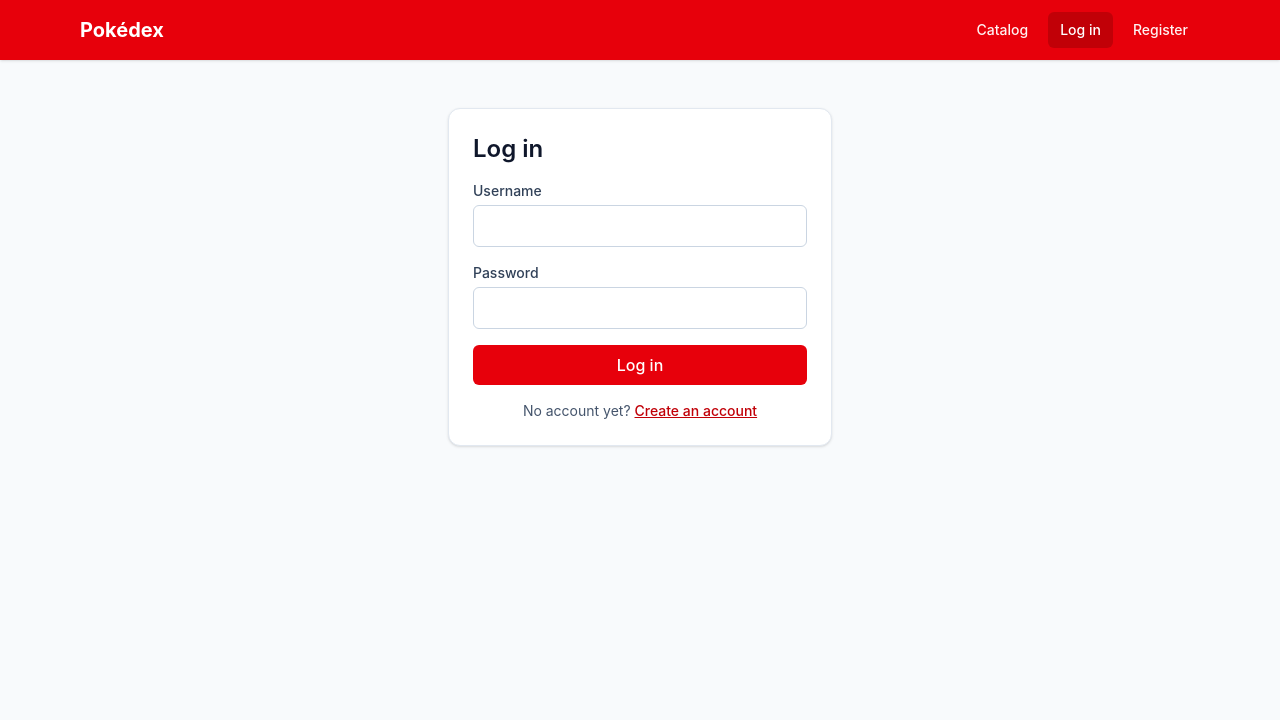
LoginPage › shows a validation message for each empty field
Click the button "Log in". click: coordinates (640, 365)
box: [473,345,807,385]
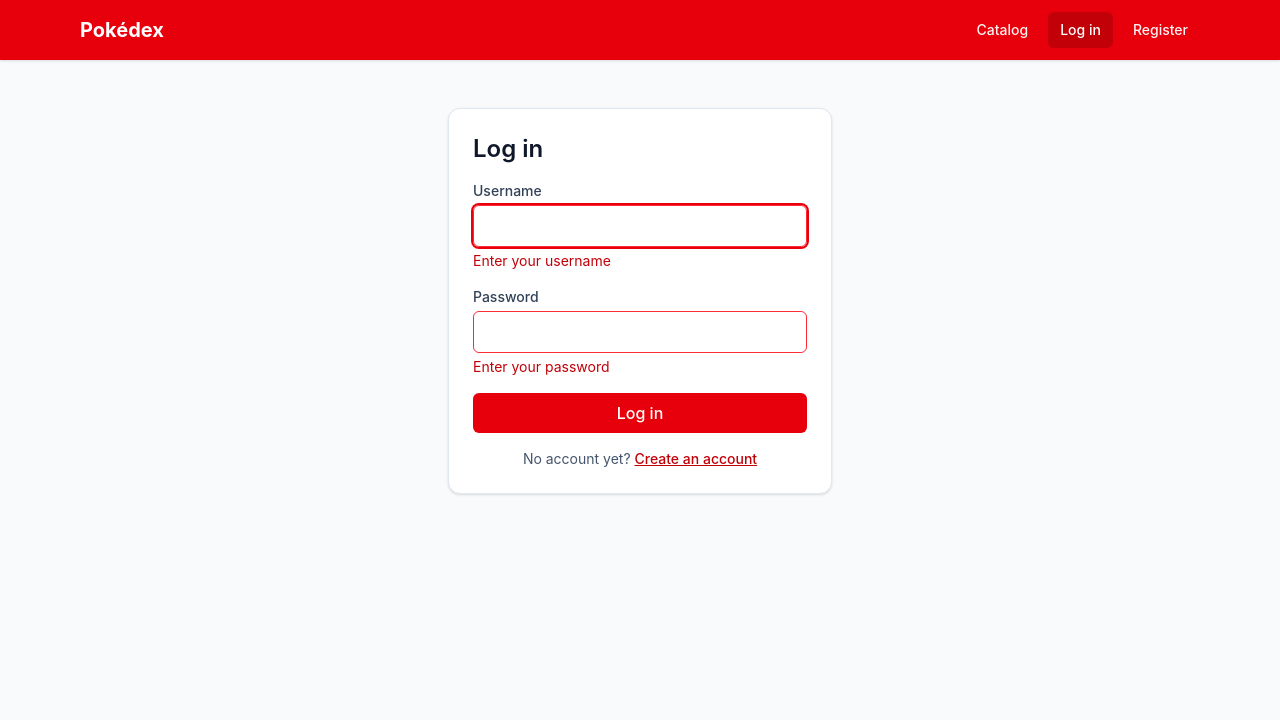
Expected: the text "Enter your username" is shown, [473,252,611,269]
Expected: the text "Enter your password" is shown, [473,358,610,375]
